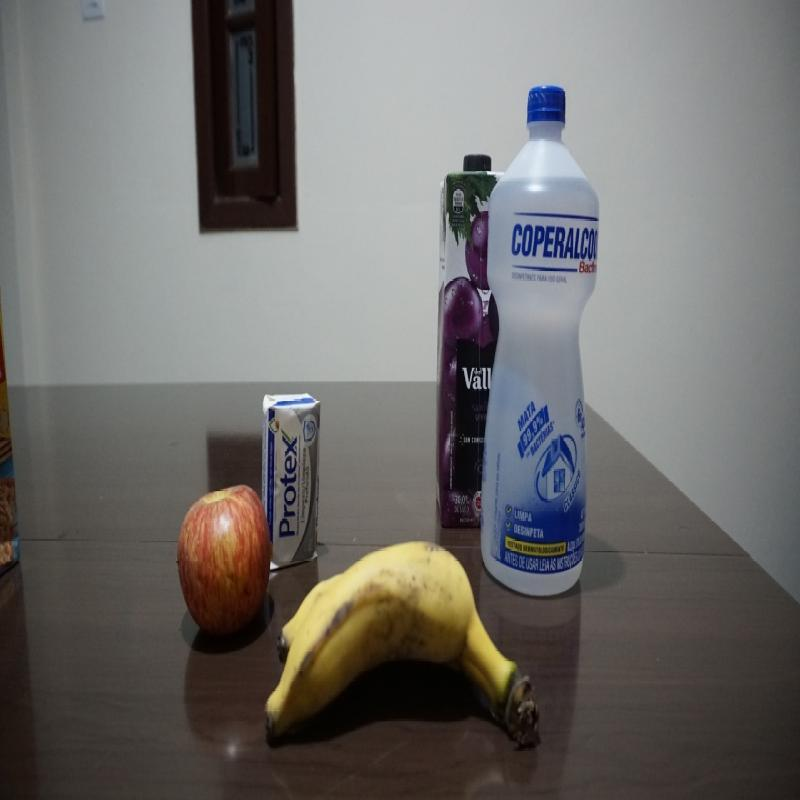Alcohol Bottle: (479, 81, 600, 602)
Apple: (175, 483, 274, 644)
Banana: (264, 538, 542, 750)
Cracker: (0, 308, 22, 579)
Soap: (260, 394, 322, 573)
